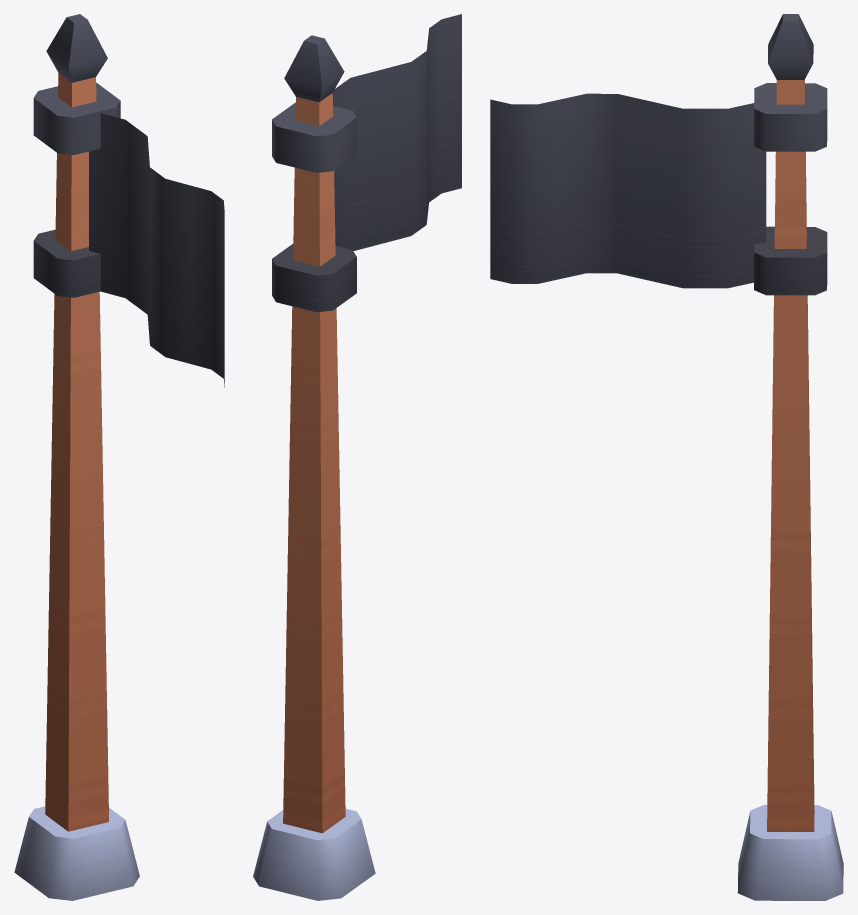
The model's file is flag-pirate-high_lev2.glb.
3 views of the same model, side by side, from view 1: azimuth 30°, elevation 25°; view 2: azimuth 150°, elevation 25°; view 3: azimuth 270°, elevation 25° (orthographic). The views are drawn at different scales.
Visible parts, largest first — view 1: flag-pirate-high_lev2; view 2: flag-pirate-high_lev2; view 3: flag-pirate-high_lev2.
Part boxes in pixels (x1,y1,x2,y2): flag-pirate-high_lev2: (14, 14, 224, 900); flag-pirate-high_lev2: (253, 14, 461, 900); flag-pirate-high_lev2: (490, 14, 843, 900).
Size of the model in its own units: 0.4009 by 3.6 by 1.34.
Materials: 1 (1 with a texture image).
